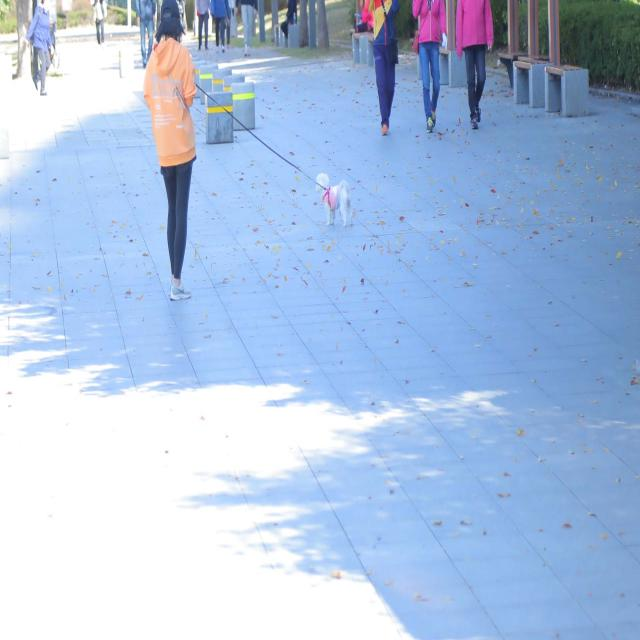Leashed_Dog: (171, 66, 355, 230)
